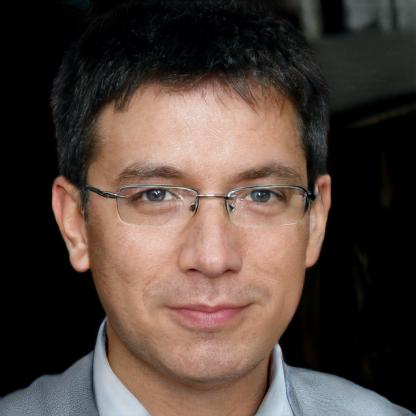glasses: (96, 172, 318, 232)
